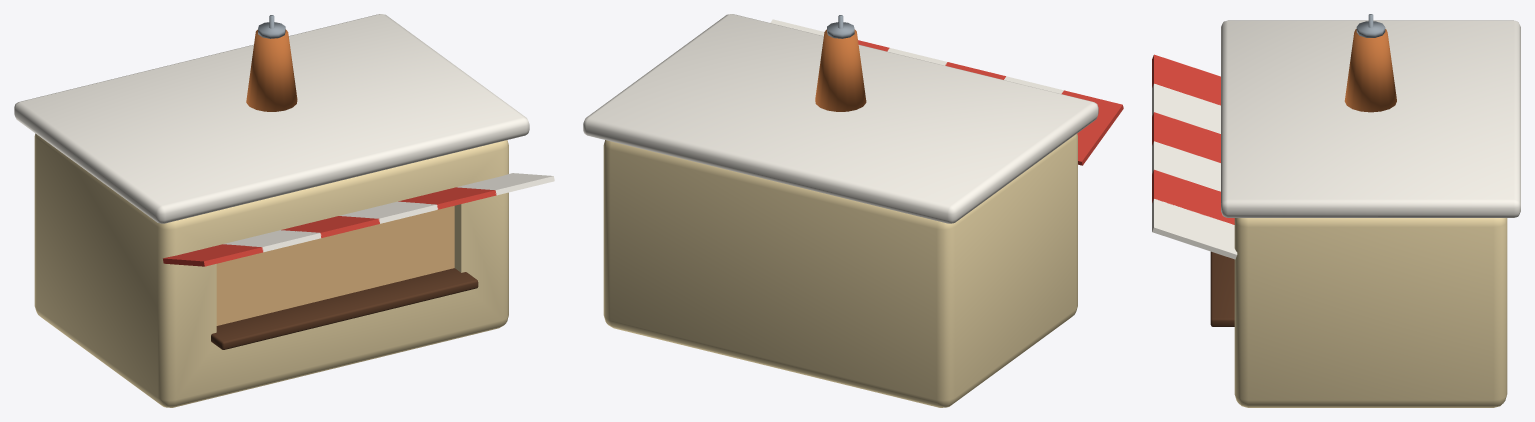
Rendered from kiosk_shawarma.gltf.
The picture shows the model from 3 angles, left to right: view 1: azimuth 30°, elevation 25°; view 2: azimuth 150°, elevation 25°; view 3: azimuth 270°, elevation 25°; orthographic projection.
Visible parts, largest first — view 1: kiosk_shawarma_mesh, INT_counter_shawarma; view 2: kiosk_shawarma_mesh; view 3: kiosk_shawarma_mesh, INT_counter_shawarma.
Part boxes in pixels (x1=…): kiosk_shawarma_mesh: x1=14, y1=14, x2=554, y2=407; INT_counter_shawarma: x1=211, y1=268, x2=478, y2=349; kiosk_shawarma_mesh: x1=583, y1=14, x2=1123, y2=407; kiosk_shawarma_mesh: x1=1152, y1=14, x2=1520, y2=407; INT_counter_shawarma: x1=1210, y1=251, x2=1234, y2=326.
Size of what is drawn, in the model's own units: 6.4 by 5.04 by 5.41.
